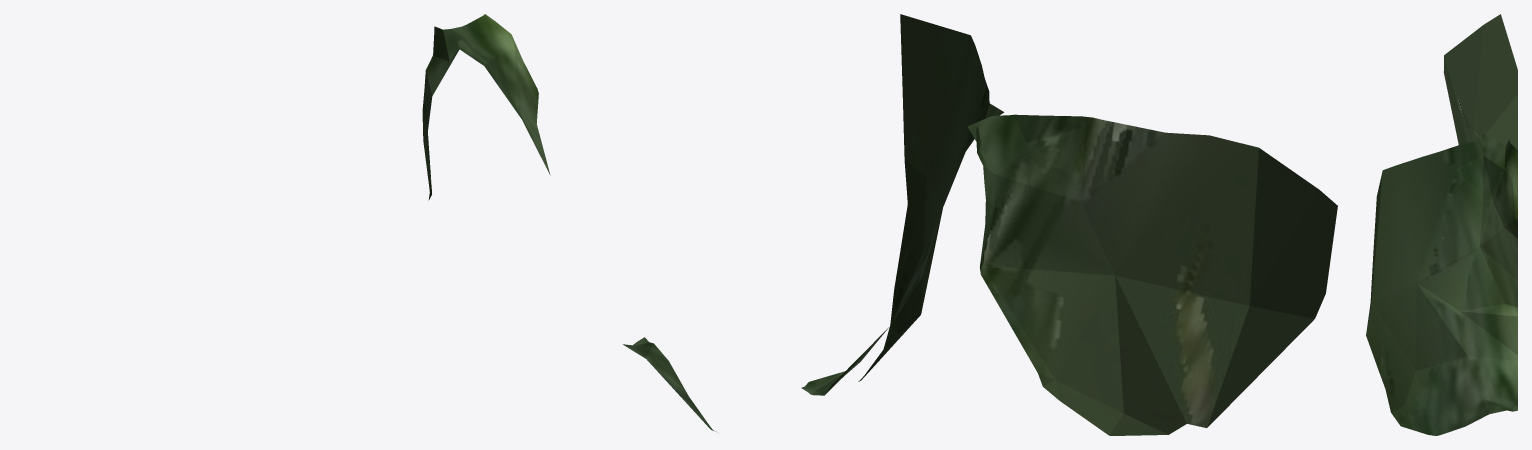
The picture shows the model from 3 angles, left to right: view 1: azimuth 30°, elevation 25°; view 2: azimuth 150°, elevation 25°; view 3: azimuth 270°, elevation 25°; orthographic projection. The views are drawn at different scales.
Size of the model in its own units: 2.95 by 1.81 by 1.04.
Materials: 1 (1 with a texture image).
